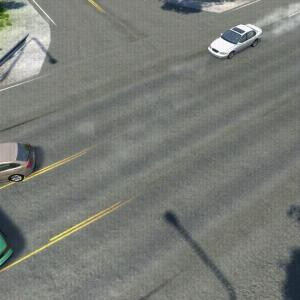significant: (0, 138, 38, 287)
